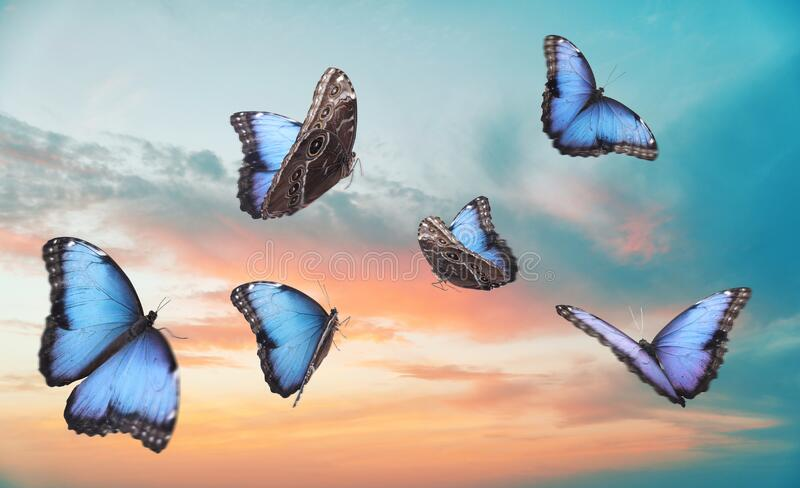insect: (38, 232, 183, 453), (554, 285, 752, 408), (229, 68, 360, 221), (538, 34, 658, 160), (227, 281, 342, 404), (416, 196, 517, 289)
